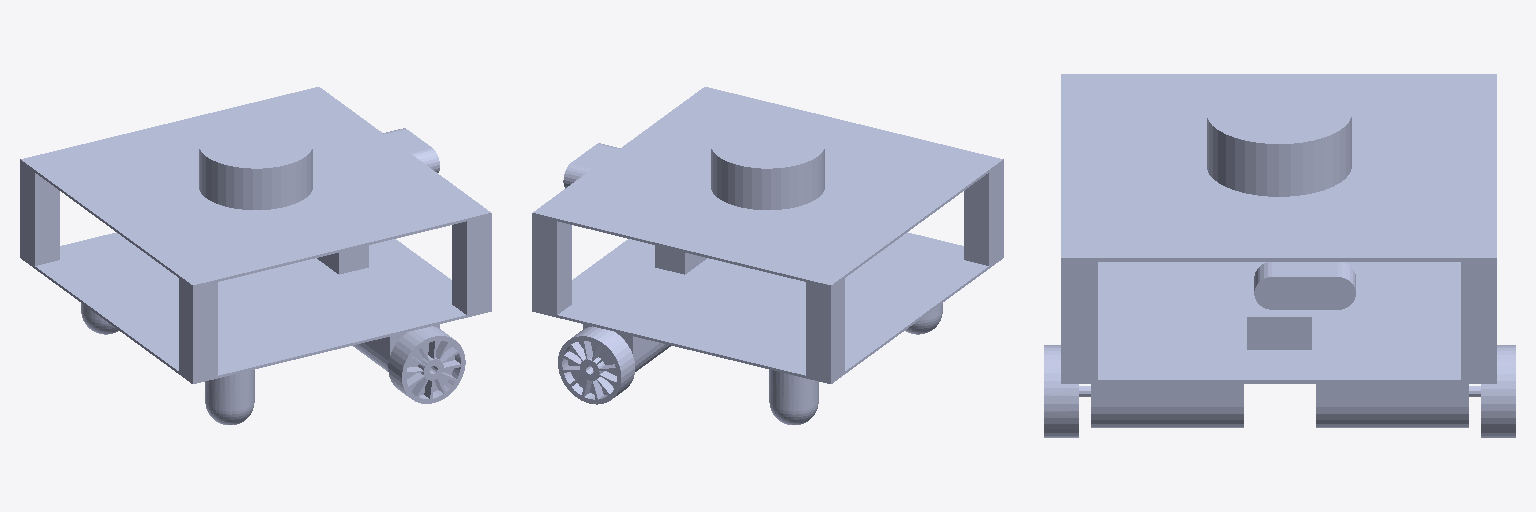
robot.urdf — car_sample:
<?xml version="1.0" encoding="utf-8"?>
<!-- This URDF was automatically created by SolidWorks to URDF Exporter! Originally created by [author] ([email redacted]) 
     Commit Version: 1.6.0-1-g15f4949  Build Version: 1.6.7594.29634
     For more information, please see http://wiki.ros.org/sw_urdf_exporter -->
<robot
  name="car_sample">
  <link
    name="base_footprint_link">
    <inertial>
      <origin
        xyz="0.0361528652695336 0.000614376877117156 0.101656750163012"
        rpy="0 0 0" />
      <mass
        value="1.65270044793389" />
      <inertia
        ixx="0.00451159949054881"
        ixy="1.0899438814409E-21"
        ixz="-5.16216598727597E-20"
        iyy="0.0040581571218991"
        iyz="9.04190464564177E-21"
        izz="0.00785209211834696" />
    </inertial>
    <visual>
      <origin
        xyz="0 0 0"
        rpy="0 0 0" />
      <geometry>
        <mesh
          filename="package://car_sample/meshes/base_footprint_link.STL" />
      </geometry>
      <material
        name="">
        <color
          rgba="0.792156862745098 0.819607843137255 0.933333333333333 1" />
      </material>
    </visual>
    <collision>
      <origin
        xyz="0 0 0"
        rpy="0 0 0" />
      <geometry>
        <mesh
          filename="package://car_sample/meshes/base_footprint_link.STL" />
      </geometry>
    </collision>
  </link>
  <link
    name="base_link">
    <inertial>
      <origin
        xyz="0.0361528652695337 0.000614376877117184 0.0334567501630123"
        rpy="0 0 0" />
      <mass
        value="1.65270044793389" />
      <inertia
        ixx="0.00451159949054881"
        ixy="6.66284572320088E-22"
        ixz="-5.16815794808489E-20"
        iyy="0.0040581571218991"
        iyz="1.07359705401504E-20"
        izz="0.00785209211834696" />
    </inertial>
    <visual>
      <origin
        xyz="0 0 0"
        rpy="0 0 0" />
      <geometry>
        <mesh
          filename="package://car_sample/meshes/base_link.STL" />
      </geometry>
      <material
        name="">
        <color
          rgba="0.792156862745098 0.819607843137255 0.933333333333333 1" />
      </material>
    </visual>
    <collision>
      <origin
        xyz="0 0 0"
        rpy="0 0 0" />
      <geometry>
        <mesh
          filename="package://car_sample/meshes/base_link.STL" />
      </geometry>
    </collision>
  </link>
  <joint
    name="base_link_joint"
    type="fixed">
    <origin
      xyz="0 0 0.0682"
      rpy="0 0 0" />
    <parent
      link="base_footprint_link" />
    <child
      link="base_link" />
    <axis
      xyz="0 0 0" />
  </joint>
  <link
    name="lf_link">
    <inertial>
      <origin
        xyz="0 -0.00194013303769397 0"
        rpy="0 0 0" />
      <mass
        value="0.0595080480442983" />
      <inertia
        ixx="1.87082093404614E-05"
        ixy="7.22685081534805E-22"
        ixz="7.56902572228698E-21"
        iyy="3.24595125645401E-05"
        iyz="6.462849152648E-21"
        izz="1.87082093404614E-05" />
    </inertial>
    <visual>
      <origin
        xyz="0 0 0"
        rpy="0 0 0" />
      <geometry>
        <mesh
          filename="package://car_sample/meshes/lf_link.STL" />
      </geometry>
      <material
        name="">
        <color
          rgba="0.792156862745098 0.819607843137255 0.933333333333333 1" />
      </material>
    </visual>
    <collision>
      <origin
        xyz="0 0 0"
        rpy="0 0 0" />
      <geometry>
        <mesh
          filename="package://car_sample/meshes/lf_link.STL" />
      </geometry>
    </collision>
  </link>
  <joint
    name="lf_joint"
    type="fixed">
    <origin
      xyz="0.08535 0.1505 -0.0362"
      rpy="0 0 0" />
    <parent
      link="base_link" />
    <child
      link="lf_link" />
    <axis
      xyz="0 0 0" />
  </joint>
  <link
    name="rf_link">
    <inertial>
      <origin
        xyz="0 0.00194013303769395 1.38777878078145E-16"
        rpy="0 0 0" />
      <mass
        value="0.0595080480442982" />
      <inertia
        ixx="1.87082093404614E-05"
        ixy="6.26369366364038E-22"
        ixz="-9.83808114361162E-21"
        iyy="3.245951256454E-05"
        iyz="-5.94039104176218E-21"
        izz="1.87082093404614E-05" />
    </inertial>
    <visual>
      <origin
        xyz="0 0 0"
        rpy="0 0 0" />
      <geometry>
        <mesh
          filename="package://car_sample/meshes/rf_link.STL" />
      </geometry>
      <material
        name="">
        <color
          rgba="0.792156862745098 0.819607843137255 0.933333333333333 1" />
      </material>
    </visual>
    <collision>
      <origin
        xyz="0 0 0"
        rpy="0 0 0" />
      <geometry>
        <mesh
          filename="package://car_sample/meshes/rf_link.STL" />
      </geometry>
    </collision>
  </link>
  <joint
    name="rf_joint"
    type="continuous">
    <origin
      xyz="0.08535 -0.1495 -0.0362"
      rpy="0 0 0" />
    <parent
      link="base_link" />
    <child
      link="rf_link" />
    <axis
      xyz="0 1 0" />
  </joint>
  <link
    name="rr_link">
    <inertial>
      <origin
        xyz="0 6.93889390390723E-18 0.0381995999878363"
        rpy="0 0 0" />
      <mass
        value="0.0916830733290614" />
      <inertia
        ixx="4.16570916445092E-05"
        ixy="2.90805684100674E-22"
        ixz="-3.29715818750473E-21"
        iyy="4.26227384594333E-05"
        iyz="2.38957862588663E-21"
        izz="2.1790227897738E-05" />
    </inertial>
    <visual>
      <origin
        xyz="0 0 0"
        rpy="0 0 0" />
      <geometry>
        <mesh
          filename="package://car_sample/meshes/rr_link.STL" />
      </geometry>
      <material
        name="">
        <color
          rgba="0.792156862745098 0.819607843137255 0.933333333333333 1" />
      </material>
    </visual>
    <collision>
      <origin
        xyz="0 0 0"
        rpy="0 0 0" />
      <geometry>
        <mesh
          filename="package://car_sample/meshes/rr_link.STL" />
      </geometry>
    </collision>
  </link>
  <joint
    name="rr_joint"
    type="fixed">
    <origin
      xyz="-0.0885 -0.108 -0.0682"
      rpy="0 0 0" />
    <parent
      link="base_link" />
    <child
      link="rr_link" />
    <axis
      xyz="0 0 0" />
  </joint>
  <link
    name="lr_link">
    <inertial>
      <origin
        xyz="0 0 0.0381995999878363"
        rpy="0 0 0" />
      <mass
        value="0.0916830733290614" />
      <inertia
        ixx="4.16570916445092E-05"
        ixy="-6.85008944770476E-22"
        ixz="-2.40284404050233E-21"
        iyy="4.26227384594333E-05"
        iyz="2.03820115432672E-22"
        izz="2.1790227897738E-05" />
    </inertial>
    <visual>
      <origin
        xyz="0 0 0"
        rpy="0 0 0" />
      <geometry>
        <mesh
          filename="package://car_sample/meshes/lr_link.STL" />
      </geometry>
      <material
        name="">
        <color
          rgba="0.792156862745098 0.819607843137255 0.933333333333333 1" />
      </material>
    </visual>
    <collision>
      <origin
        xyz="0 0 0"
        rpy="0 0 0" />
      <geometry>
        <mesh
          filename="package://car_sample/meshes/lr_link.STL" />
      </geometry>
    </collision>
  </link>
  <joint
    name="lr_joint"
    type="fixed">
    <origin
      xyz="-0.0885 0.108 -0.0682"
      rpy="0 0 0" />
    <parent
      link="base_link" />
    <child
      link="lr_link" />
    <axis
      xyz="0 0 0" />
  </joint>
</robot>

--- Facts derived from the render (not from the file) ---
3 views of the same robot in one strip: view 1: azimuth 30°, elevation 25°; view 2: azimuth 150°, elevation 25°; view 3: azimuth 270°, elevation 25° (orthographic).
Robot: car_sample — 6 links, 5 joints (1 continuous, 4 fixed); root link base_footprint_link; default pose: all joints at 0.
Links seen in each view (by area): view 1: base_footprint_link, base_link, rf_link, rr_link, lr_link; view 2: base_footprint_link, base_link, lf_link, lr_link, rr_link; view 3: base_footprint_link, base_link, lf_link, rf_link.
Boxes of the visible links, x1,y1,x2,y2 form: base_footprint_link: (20,87,491,383); base_link: (34,120,491,286); rf_link: (388,326,465,403); rr_link: (205,370,254,424); lr_link: (81,303,118,334); base_footprint_link: (532,87,1003,383); base_link: (532,120,1000,371); lf_link: (558,326,634,404); lr_link: (769,370,818,424); rr_link: (905,303,942,334); base_footprint_link: (1061,74,1496,427); base_link: (1061,83,1496,426); lf_link: (1481,345,1515,437); rf_link: (1044,345,1078,437).
Bounding box of the posed robot: 0.325 × 0.324 × 0.2032 m (x, y, z).
Meshes: 6 distinct files referenced, 6 mesh visuals loaded (6 binary STL).
